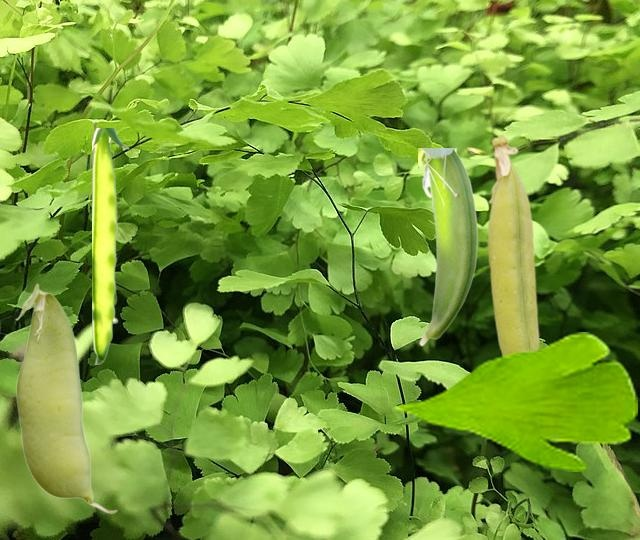pea: (14, 283, 117, 513), (418, 148, 478, 345), (487, 133, 539, 353), (92, 128, 128, 363)
